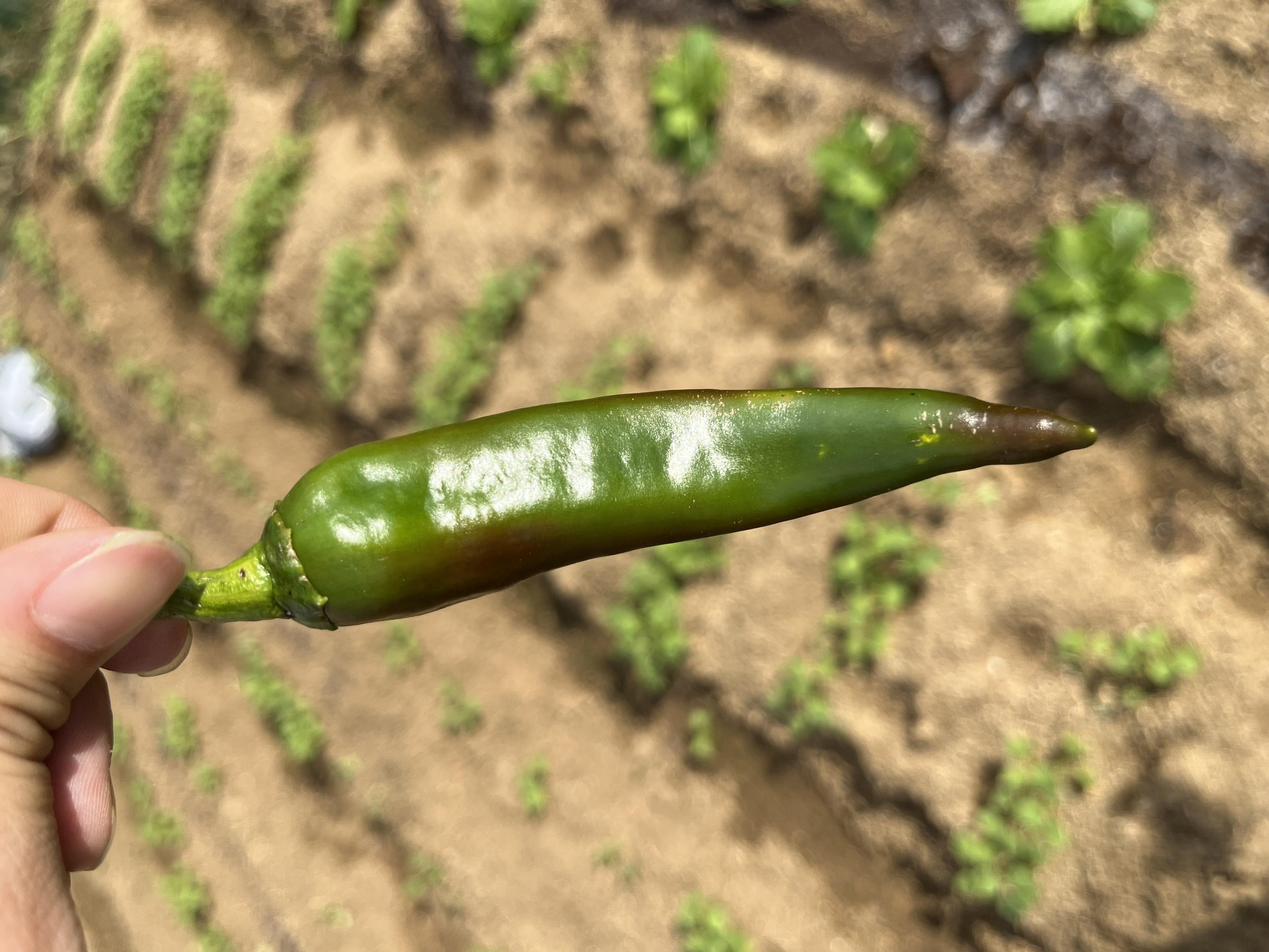Buah Cabai Sehat: (400, 194, 777, 819)
